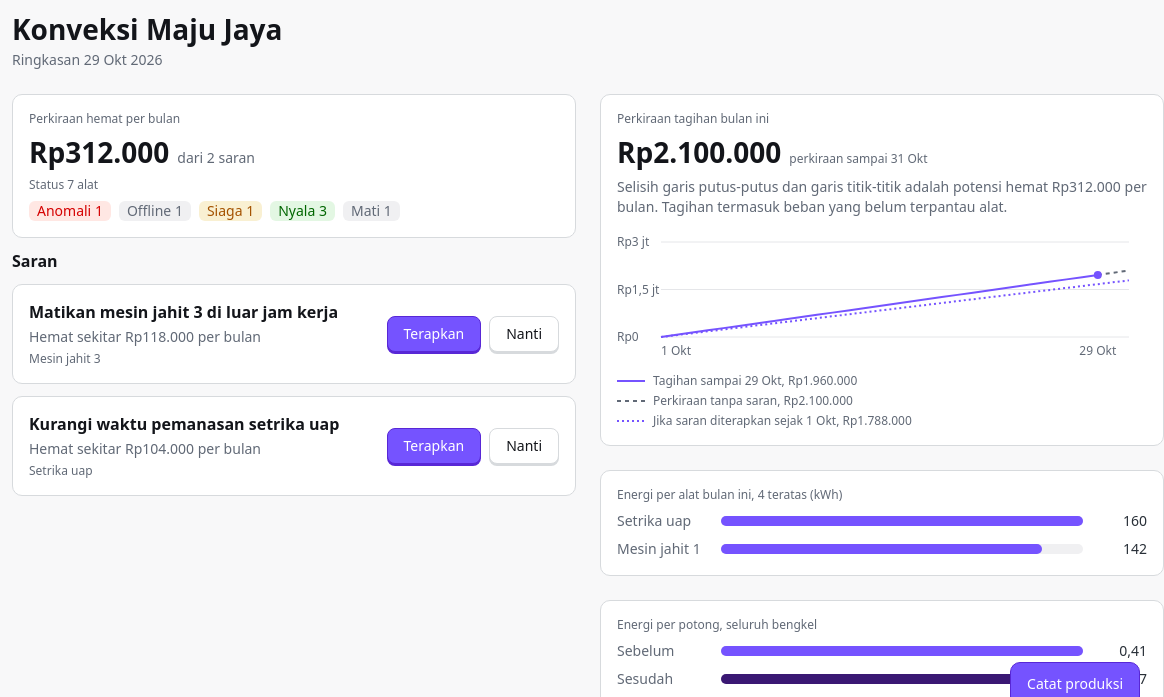
Test case: BerandaPage › says that the decision was not saved when sending it fails
Click the button "Terapkan" next to "Matikan mesin jahit 3 di luar jam kerja" at (434, 334), box [386,316,481,352]
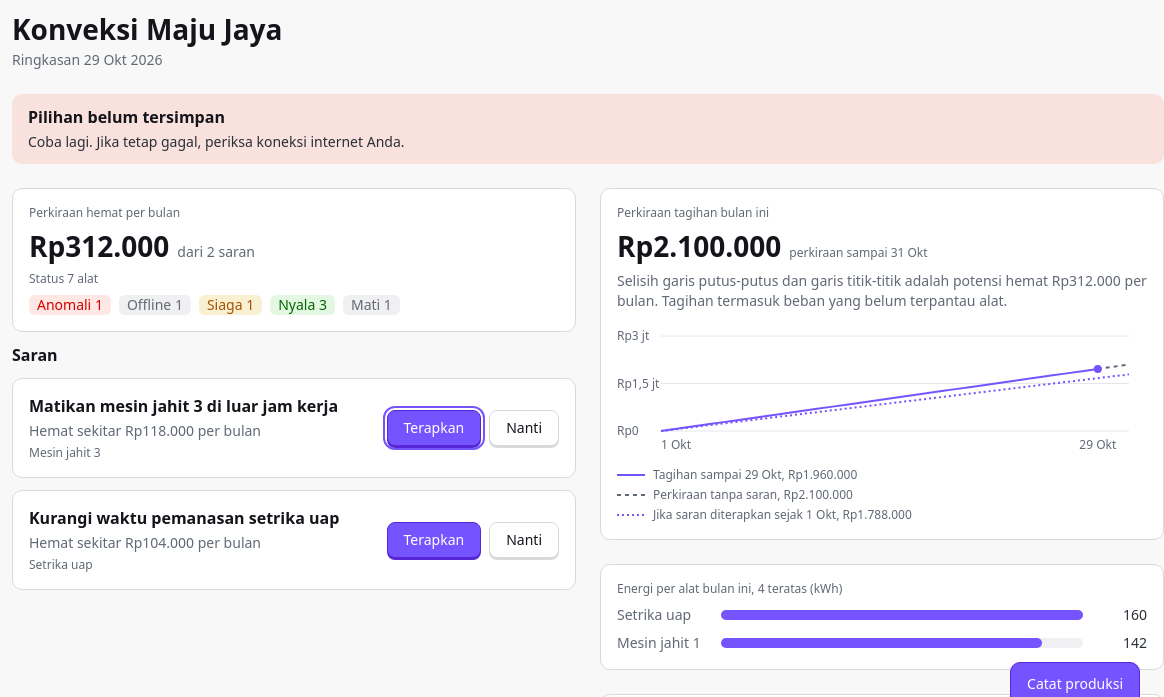
Expected: the button "Terapkan" next to "Matikan mesin jahit 3 di luar jam kerja" is enabled, [386,410,481,446]
Expected: the text "Pilihan belum tersimpan" is shown, [28,106,225,128]
